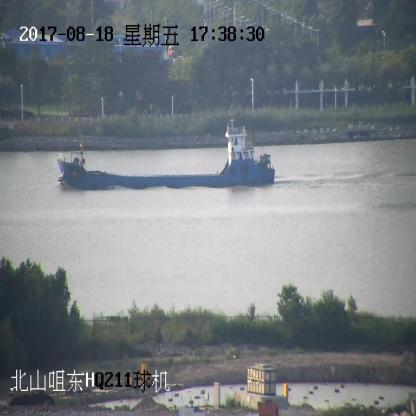Bulk Carrier: (58, 106, 275, 188)
